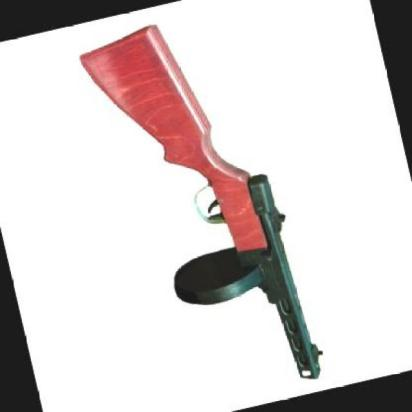Gun: (82, 0, 324, 380)
